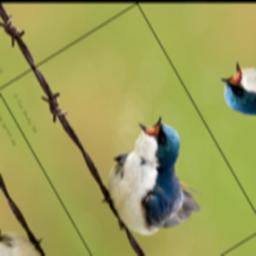Swallow: (77, 103, 219, 255)
